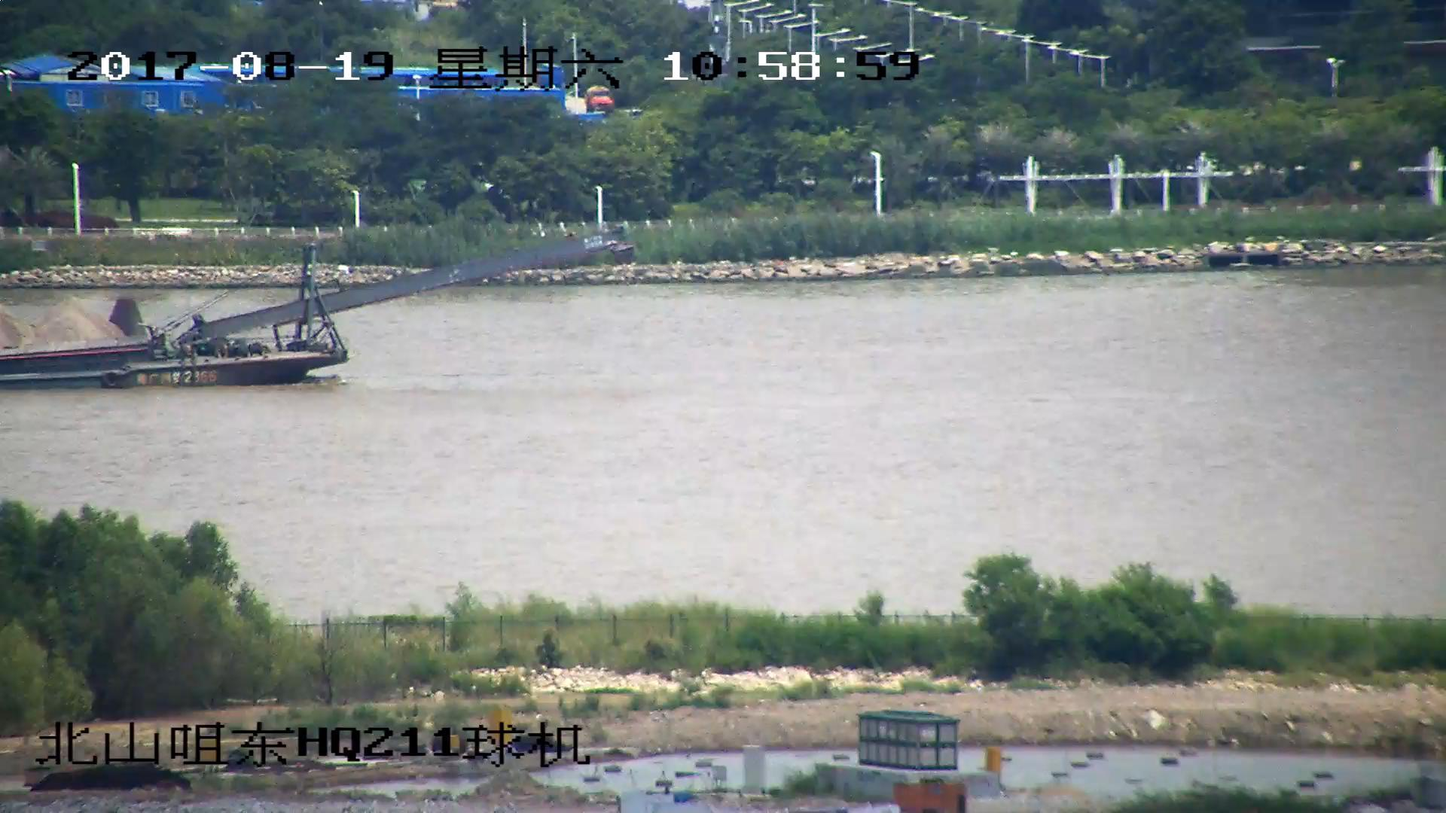ore carrier: (0, 234, 618, 387)
